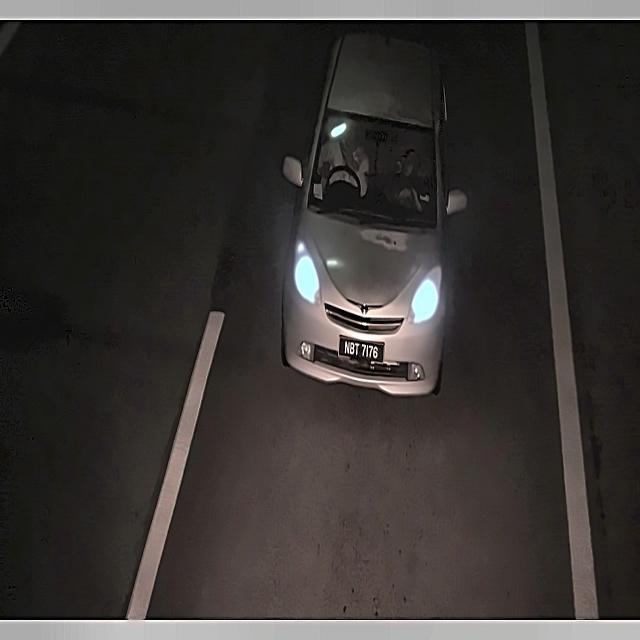car: (335, 328, 387, 370)
